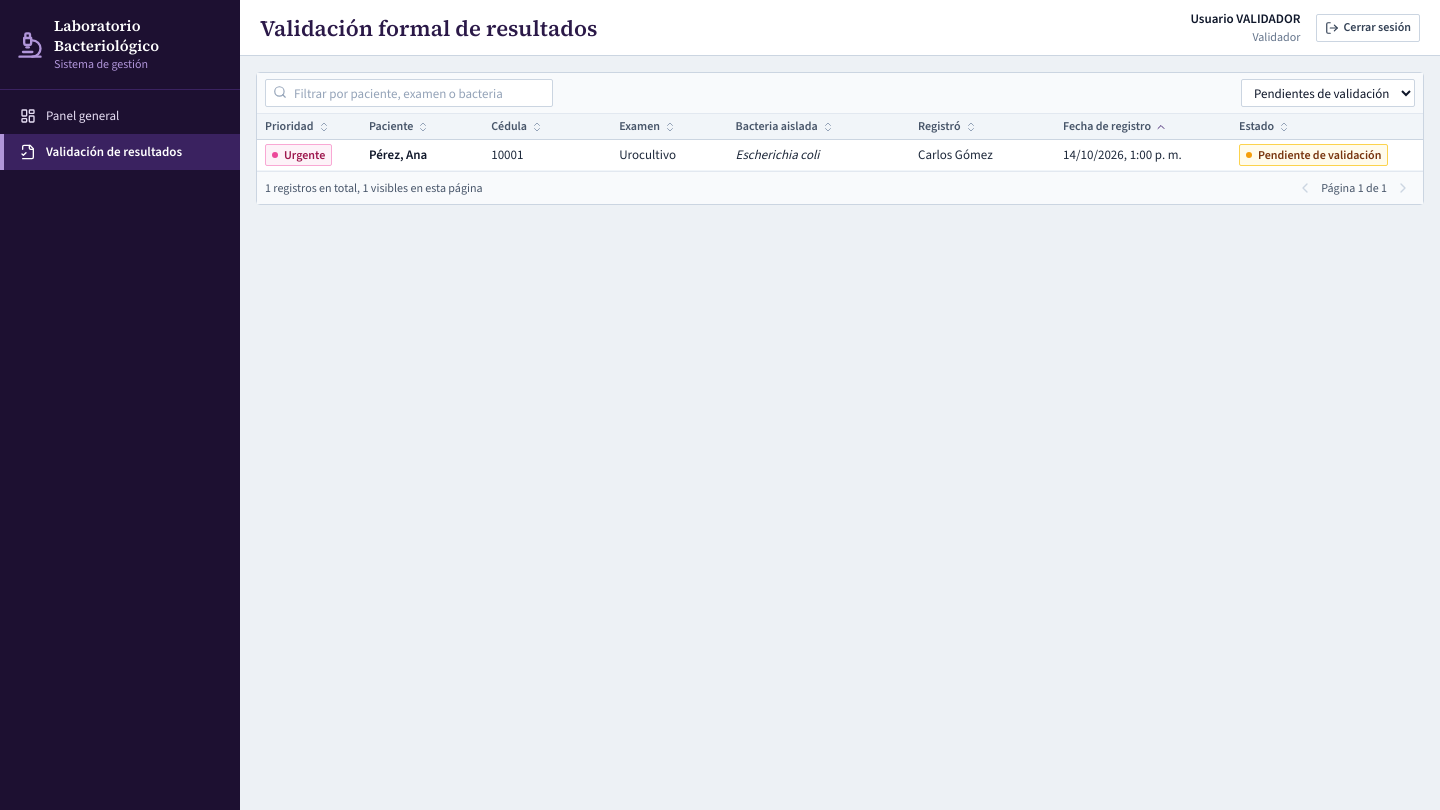
Test case: Validación con doble firma › un validador distinto firma el resultado tras confirmar
Click the text "Pérez, Ana": [398, 154] box [369, 146, 427, 163]
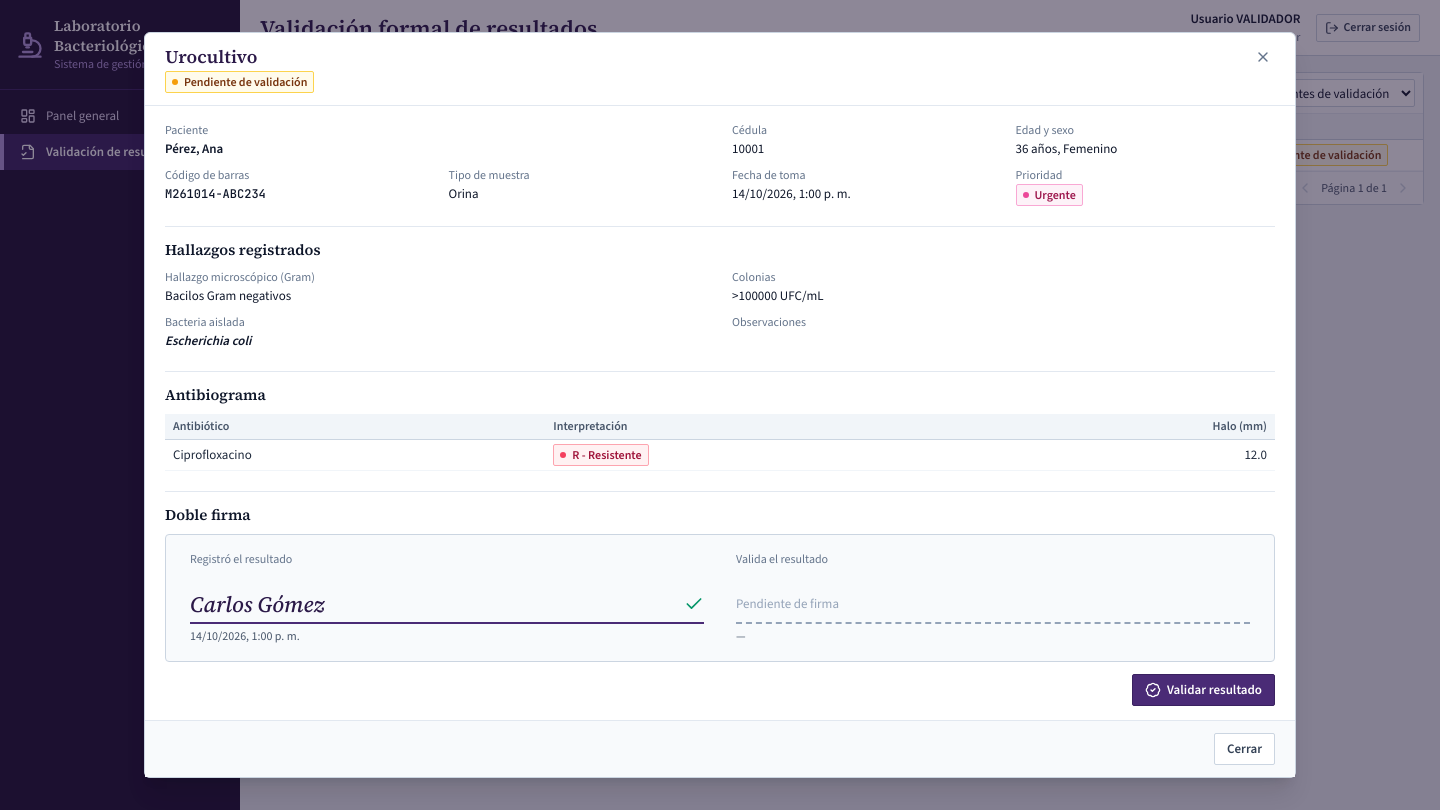
Click the button "Validar resultado": [1204, 690] box [1132, 674, 1275, 706]
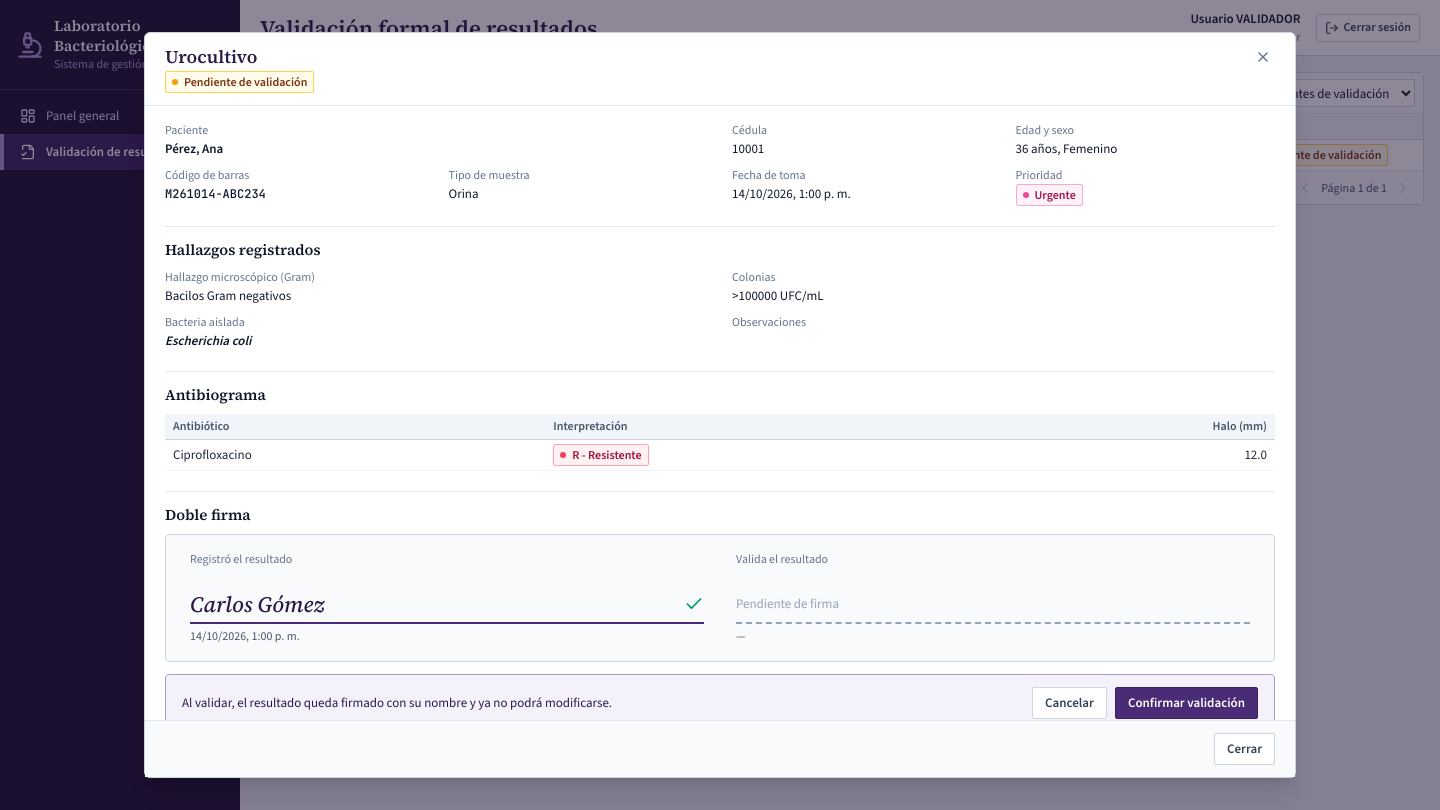
Expected: the text "ya no podrá modificarse" is shown, [182, 694, 612, 711]
Click the button "Confirmar validación": [1186, 703] box [1115, 687, 1258, 719]
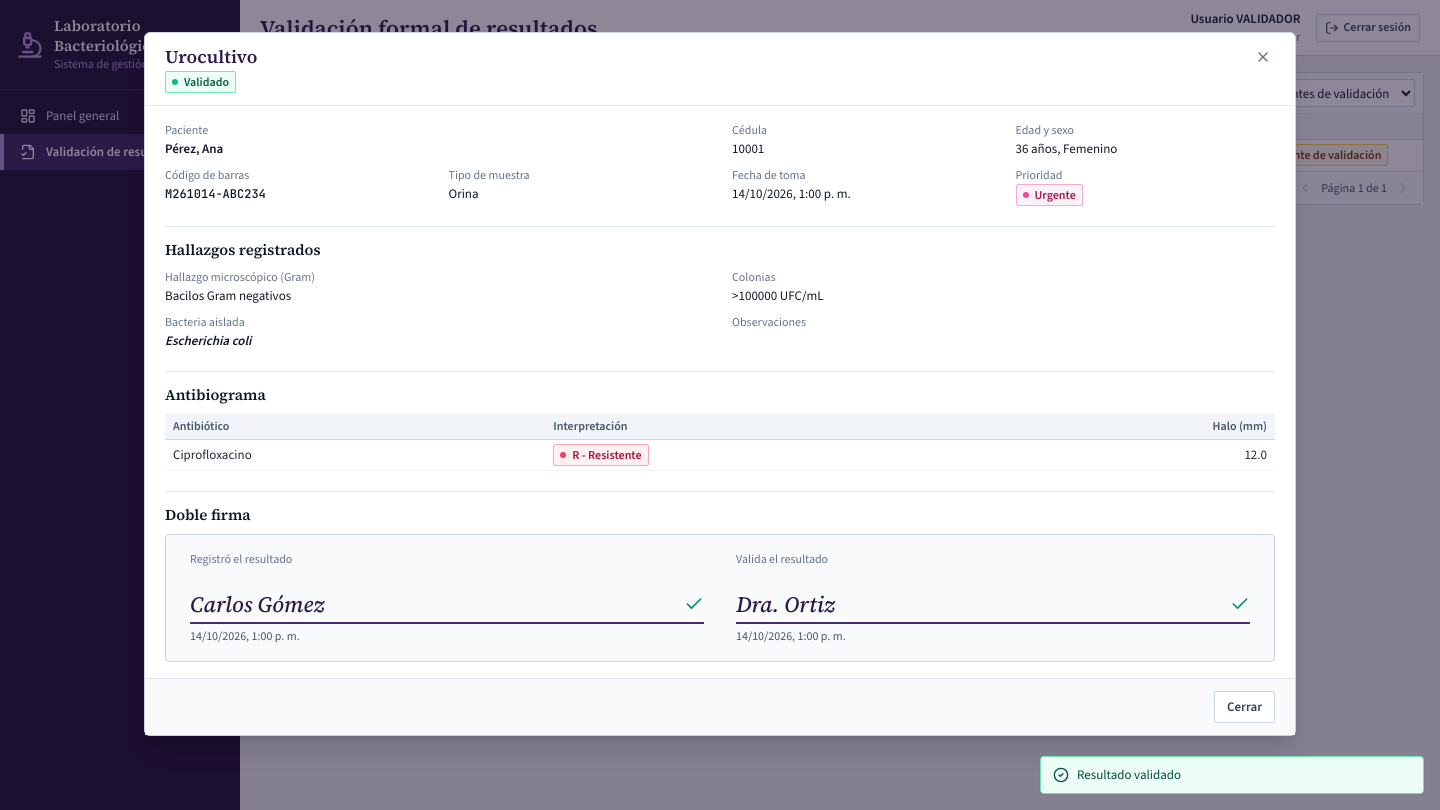
Expected: the button "Validar resultado" is not shown
Expected: the text "Dra. Ortiz" is shown, [736, 590, 835, 618]
